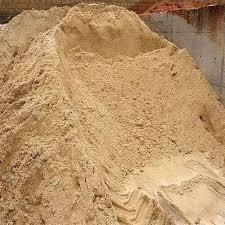sand: (54, 184, 79, 208), (107, 37, 129, 57), (94, 108, 114, 130), (189, 155, 209, 174), (158, 172, 178, 190), (192, 200, 210, 215)
